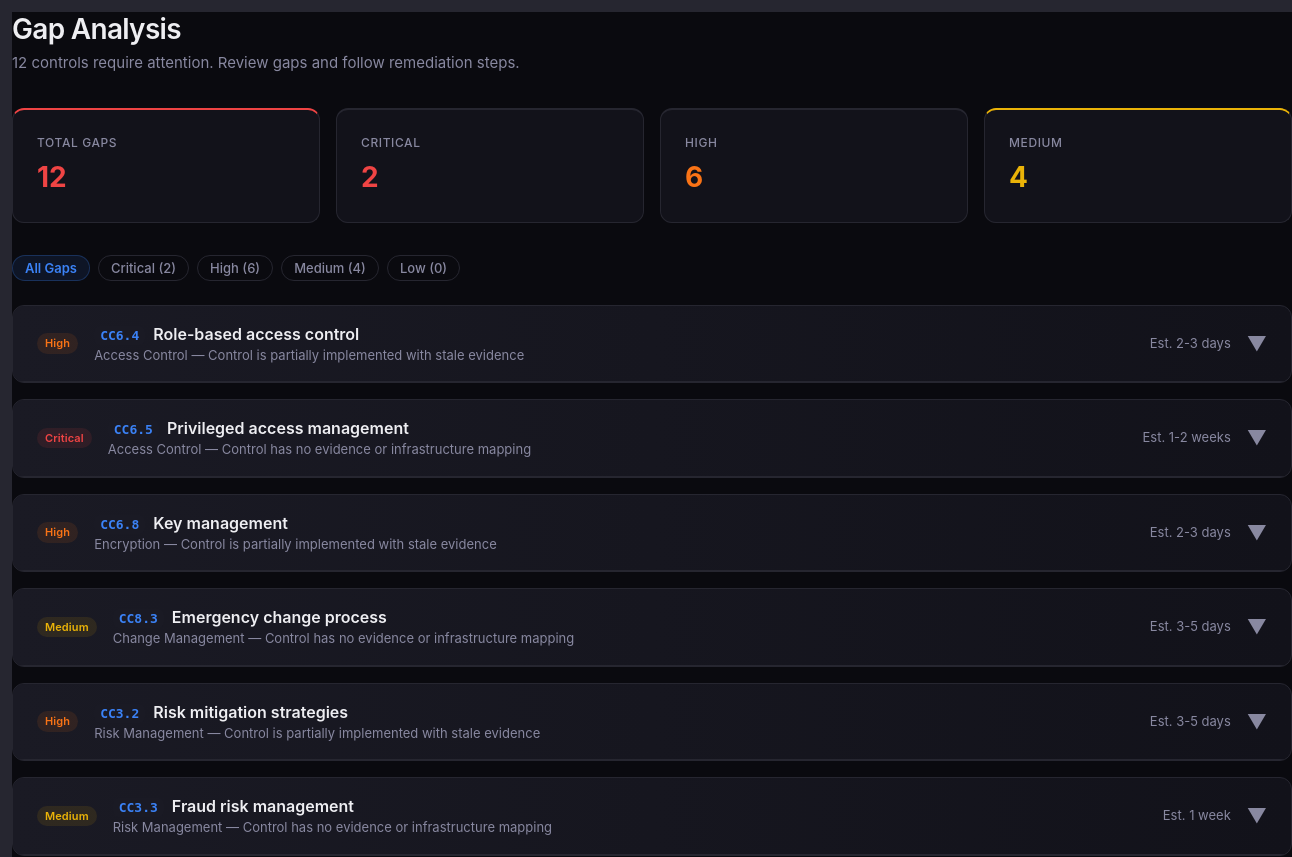
it: GapsPage › expands a gap to show remediation steps
Click the first gap card header to expand
Click the text "Privileged access management".
click(652, 439)  # box [13,400,1291,477]
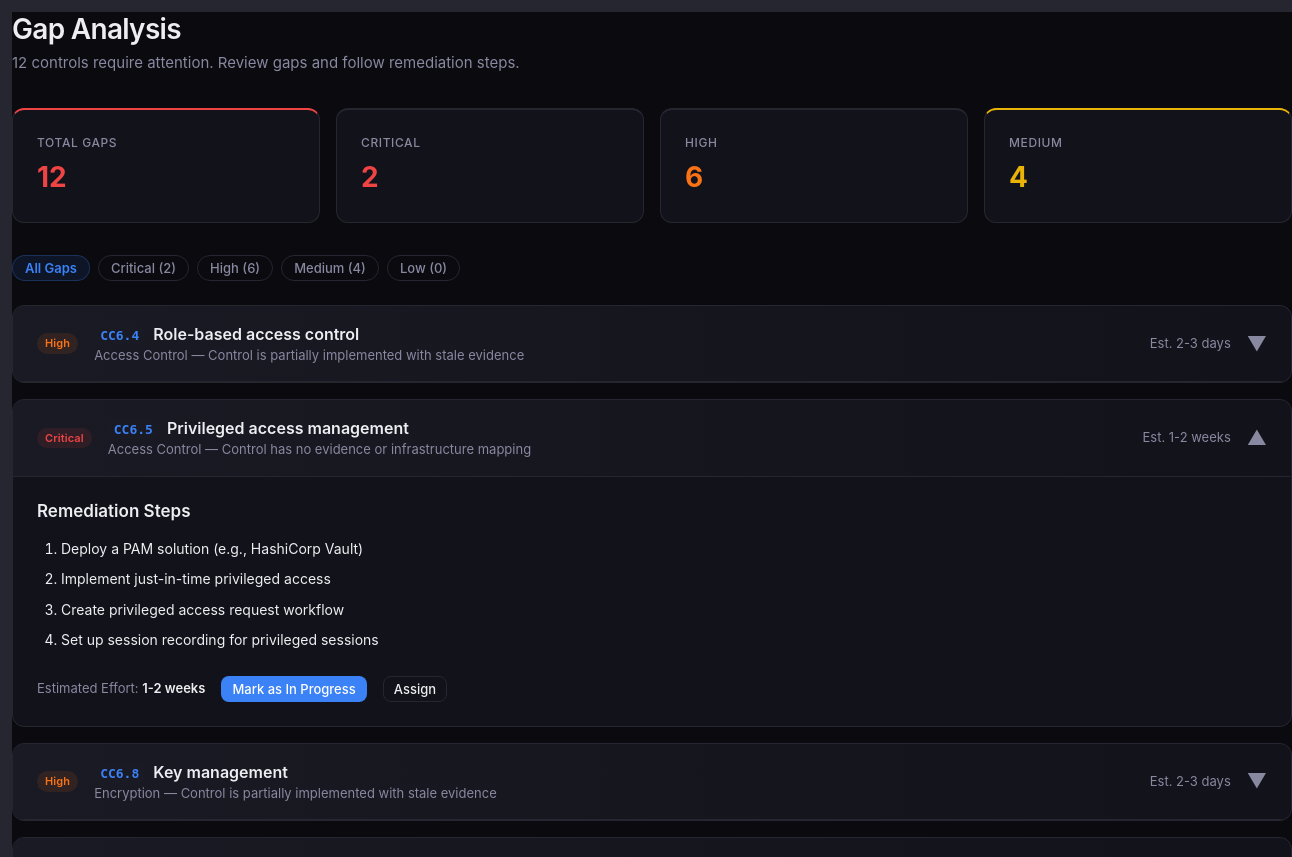
Expected: the heading "Remediation Steps" is shown, [37,501,190,521]
Expected: the list item "Deploy a PAM solution (e.g., HashiCorp Vault)" is shown, [61,540,363,557]
